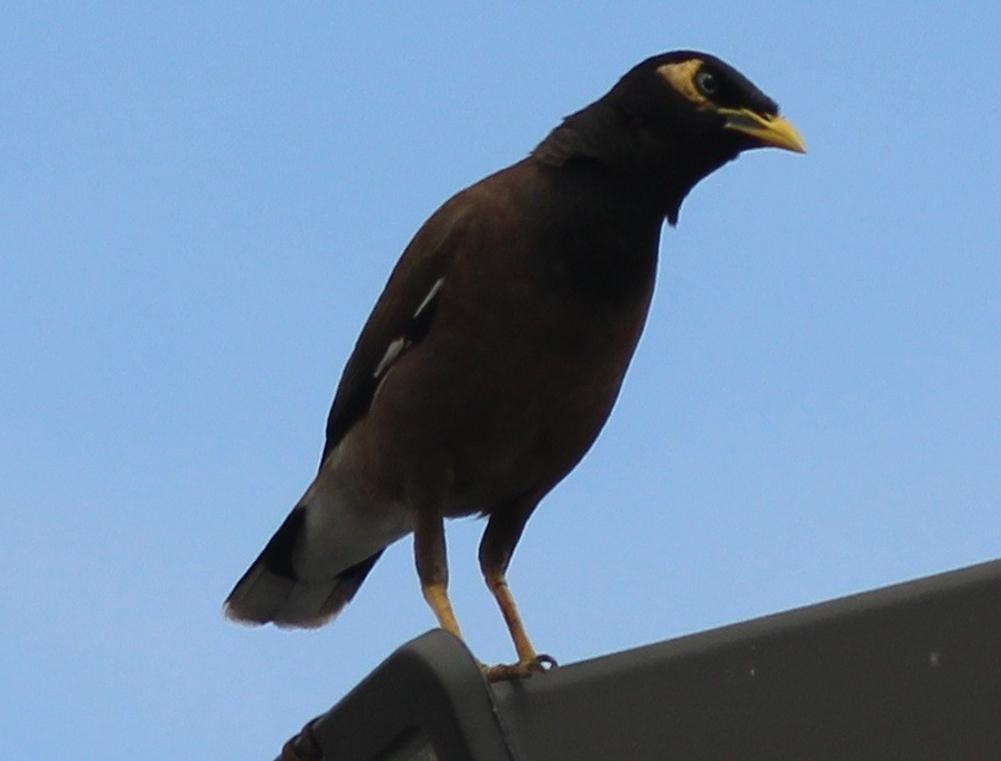myna: (198, 11, 808, 656)
